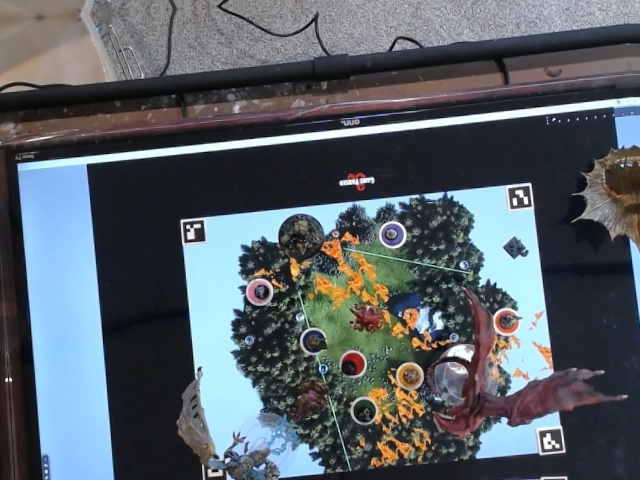blue: (291, 321, 331, 355)
green: (343, 394, 383, 430)
orange: (485, 302, 522, 341)
pink: (242, 273, 278, 313)
red: (331, 347, 373, 380)
violet: (372, 220, 408, 251)
yellow: (392, 357, 426, 392)
